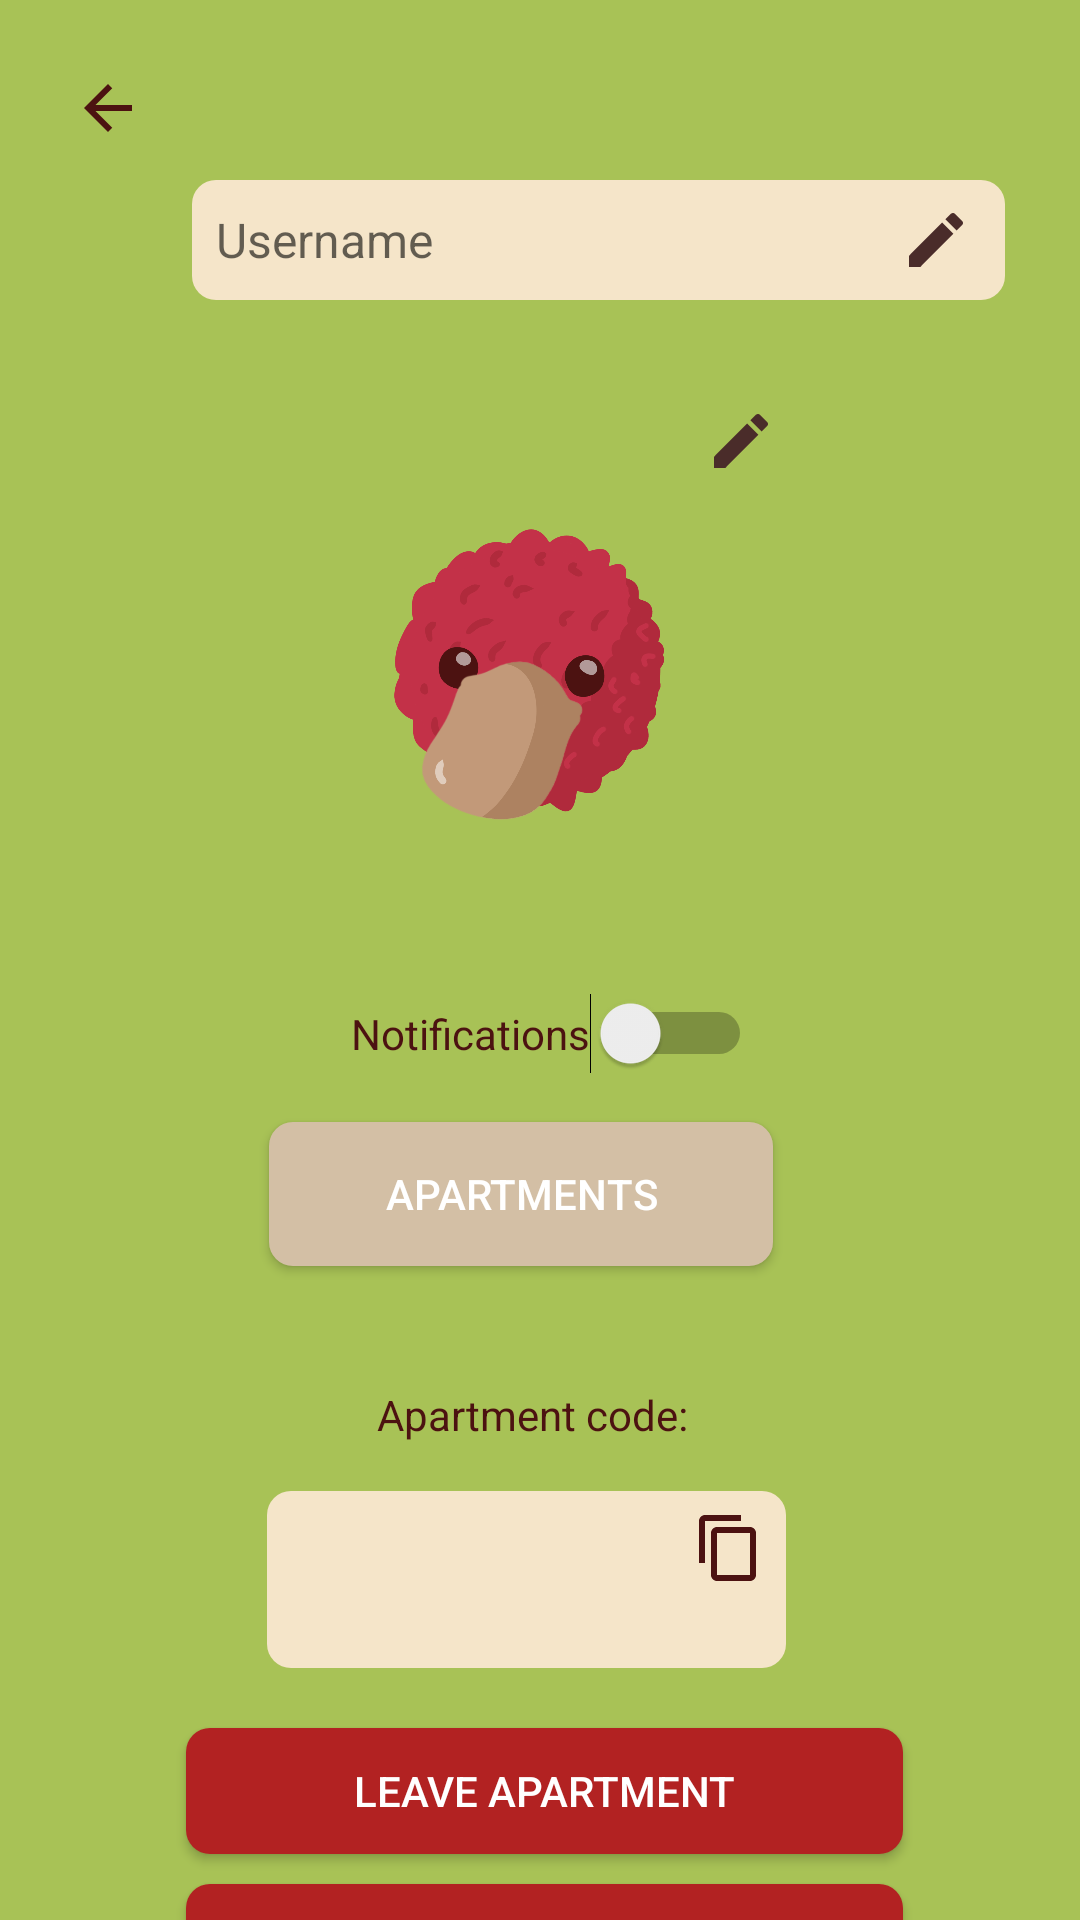

Screen size 1080*1920. Icon name, then its box in pixels as (x1, y1, x2, y2):
back: (84, 84, 132, 132)
edit: (909, 213, 963, 267), (714, 414, 768, 468)
